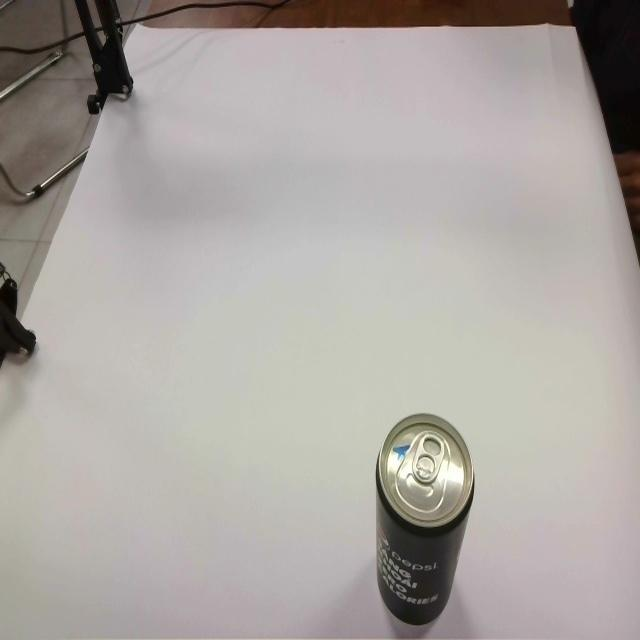debris: (374, 412, 476, 626)
